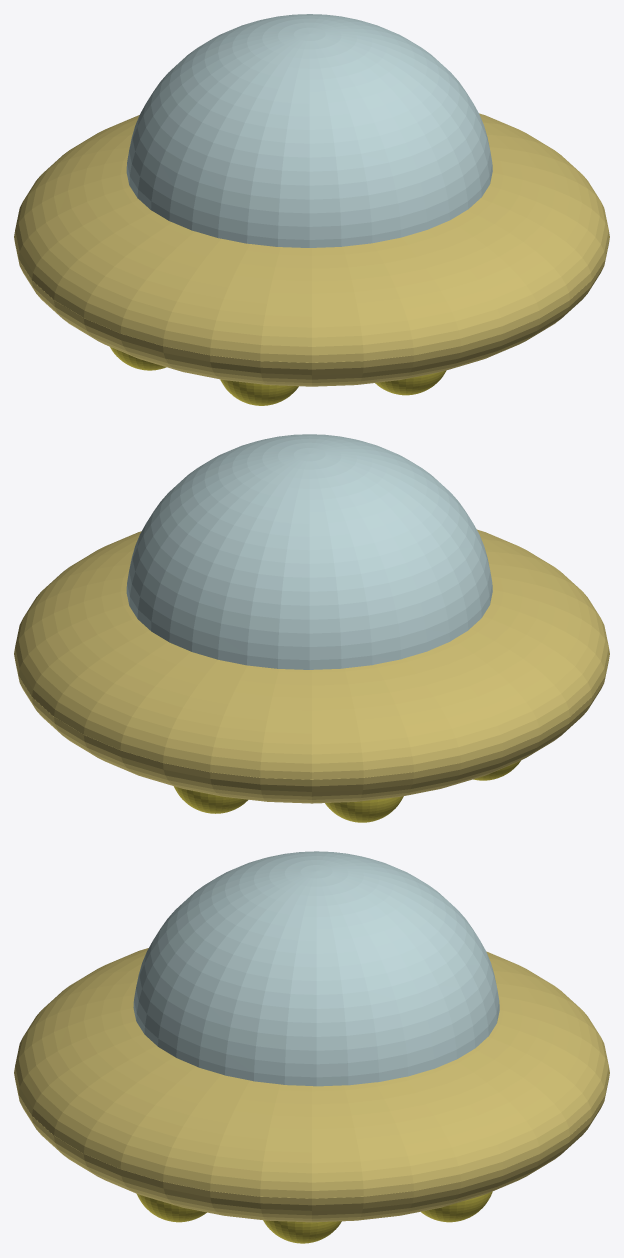
Rendered from GoldFlyingSaucer.glb.
The picture shows the model from 3 angles, top to bottom: view 1: azimuth 30°, elevation 25°; view 2: azimuth 150°, elevation 25°; view 3: azimuth 270°, elevation 25°; orthographic projection.
Parts seen in each view (by area): view 1: Mesh_Mesh_head_geo.001_lambert2SG.001; view 2: Mesh_Mesh_head_geo.001_lambert2SG.001; view 3: Mesh_Mesh_head_geo.001_lambert2SG.001.
Part boxes in pixels (left/top/right/bottom): Mesh_Mesh_head_geo.001_lambert2SG.001: left=14, top=14, right=609, bottom=405; Mesh_Mesh_head_geo.001_lambert2SG.001: left=14, top=434, right=609, bottom=822; Mesh_Mesh_head_geo.001_lambert2SG.001: left=14, top=851, right=609, bottom=1243.
Bounding box in the file's own units: 130 × 69 × 130.
